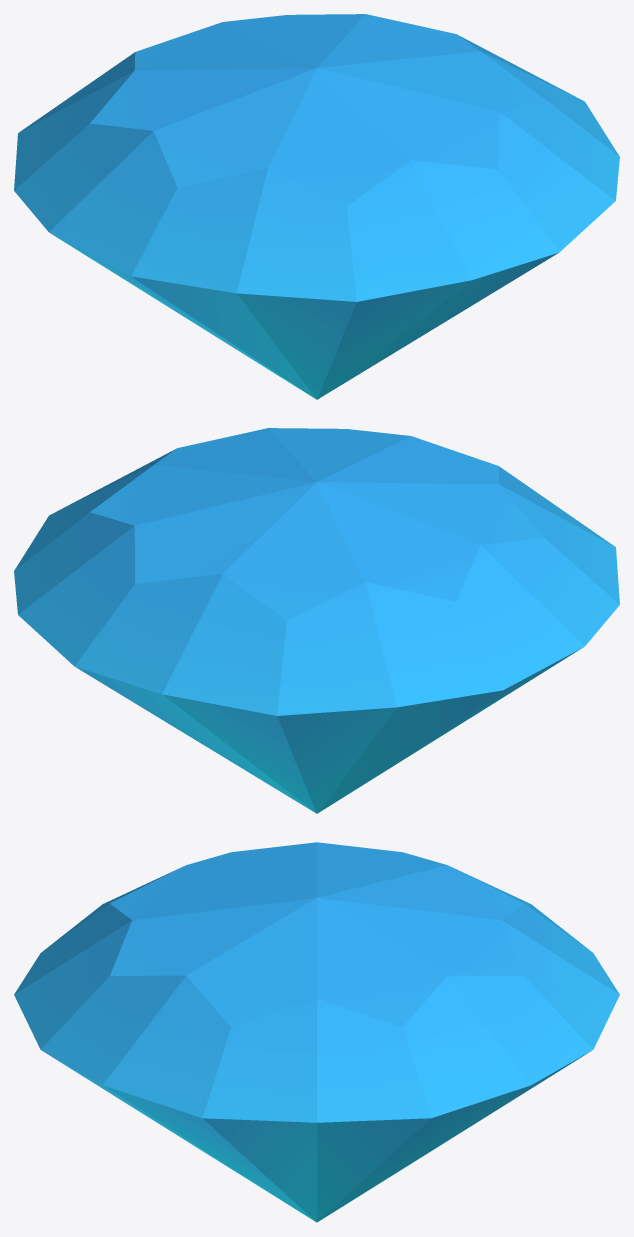
Rendered from diamond.glb.
3 renders of one model, top to bottom at view 1: azimuth 30°, elevation 25°; view 2: azimuth 150°, elevation 25°; view 3: azimuth 270°, elevation 25°, orthographic. The views are drawn at different scales.
Parts seen in each view (by area): view 1: SM_Diamond_Gem2; view 2: SM_Diamond_Gem2; view 3: SM_Diamond_Gem2.
Part boxes in pixels (x1,y1,x2,y2): SM_Diamond_Gem2: (14, 14, 619, 399); SM_Diamond_Gem2: (14, 428, 619, 813); SM_Diamond_Gem2: (14, 842, 619, 1222).
Size of the model in its own units: 0.4277 by 0.253 by 0.4277.
1 material, 1 textured.
